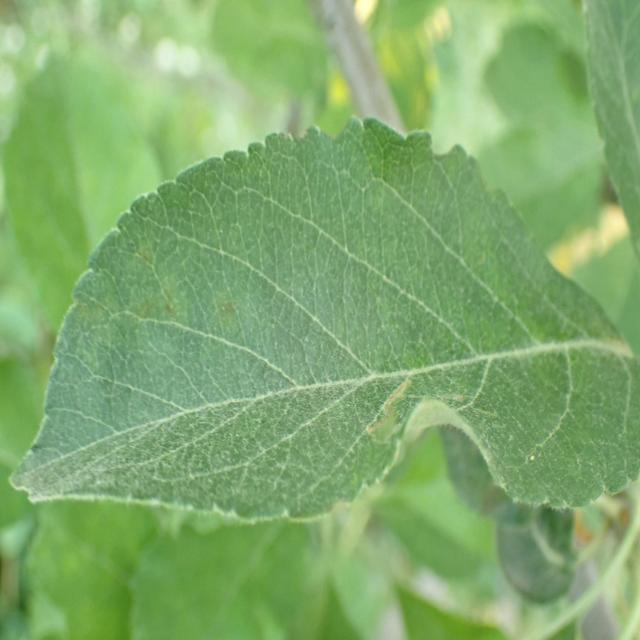scab: (55, 199, 562, 484)
